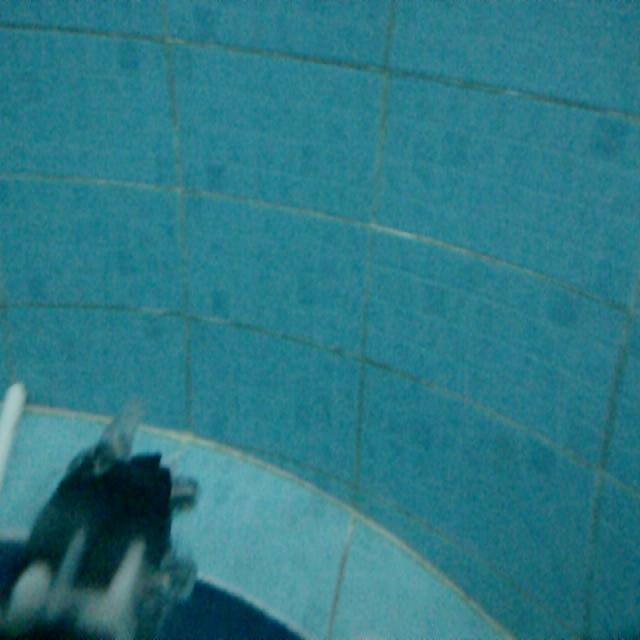Cube: (0, 381, 30, 494)
